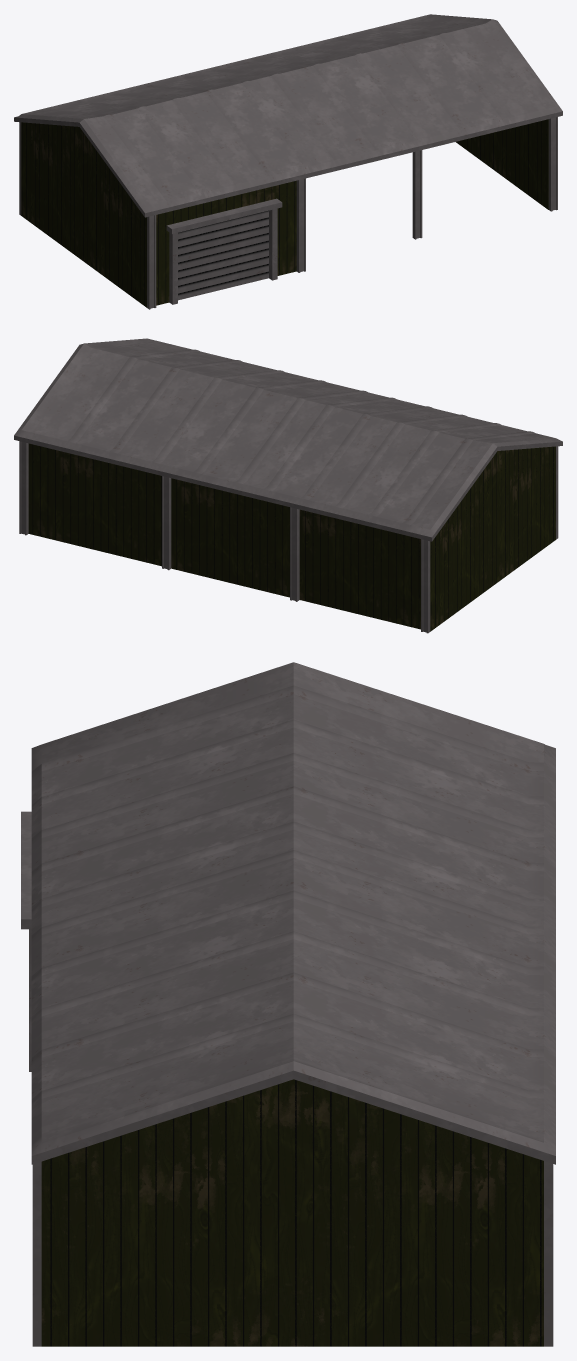
File: Garage_01.fbx
The picture shows the model from 3 angles, top to bottom: view 1: azimuth 30°, elevation 25°; view 2: azimuth 150°, elevation 25°; view 3: azimuth 270°, elevation 25°; orthographic projection. The views are drawn at different scales.
Parts seen in each view (by area): view 1: Plane.009, Plane.011, Plane.012, Plane.014, Plane.013; view 2: Plane.009, Plane.015, Plane.016, Plane.017, Plane.018; view 3: Plane.009, Plane.018, Plane.012.
Boxes of the visible parts, x1,y1,x2,y2 form: Plane.009: [14, 14, 562, 307]; Plane.011: [412, 150, 422, 239]; Plane.012: [548, 117, 557, 211]; Plane.014: [147, 215, 156, 309]; Plane.013: [296, 178, 305, 272]; Plane.009: [14, 338, 562, 631]; Plane.015: [290, 507, 299, 601]; Plane.016: [421, 539, 430, 633]; Plane.017: [162, 476, 171, 570]; Plane.018: [19, 441, 28, 535]; Plane.009: [21, 662, 555, 1346]; Plane.018: [544, 1161, 553, 1346]; Plane.012: [32, 1161, 41, 1346].
Size of the model in its own units: 1725 by 563 by 956.
